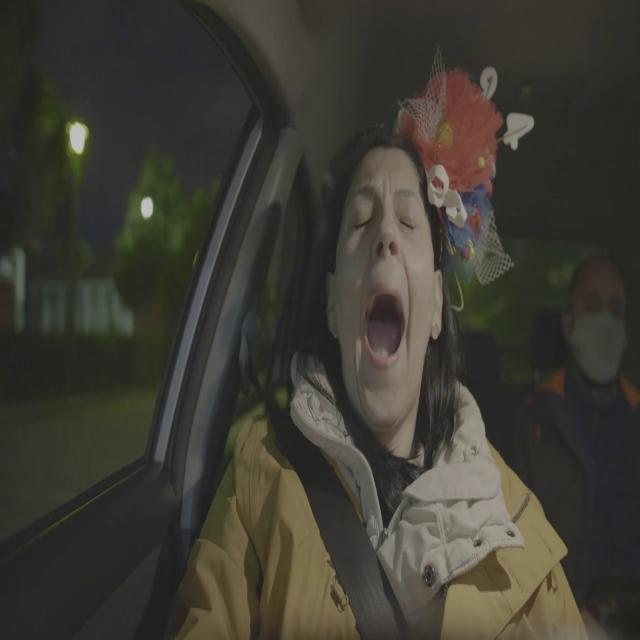close: (345, 181, 379, 237), (392, 186, 423, 238)
